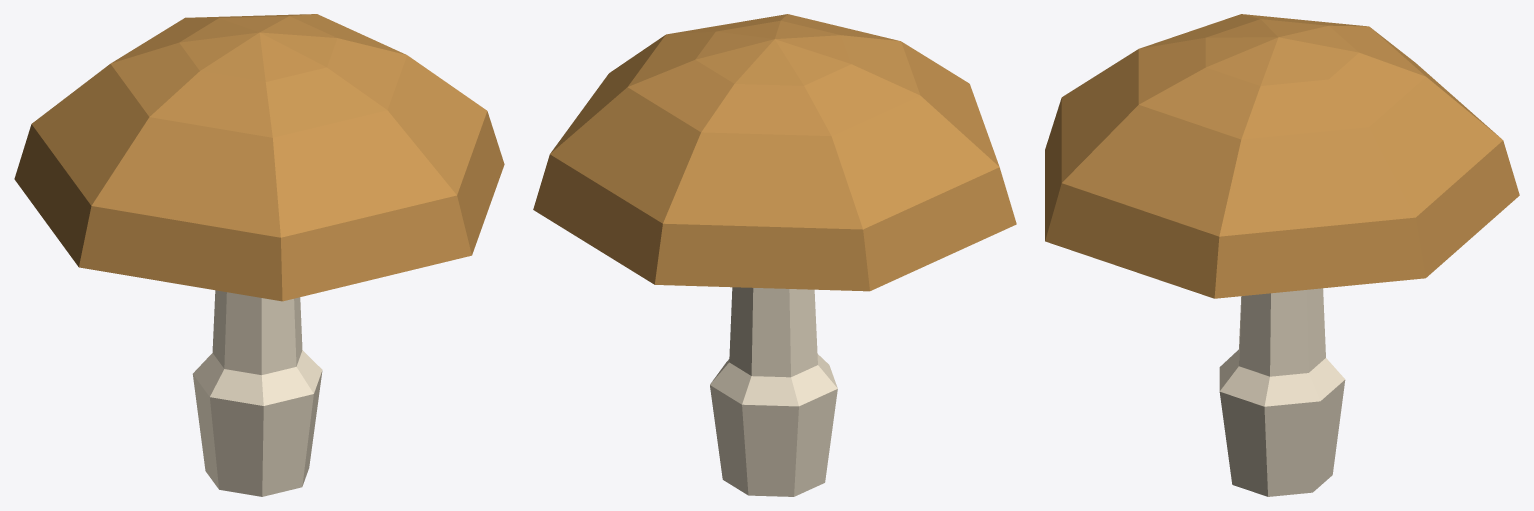
The model's file is mushroom-c.glb.
The picture shows the model from 3 angles, left to right: view 1: azimuth 30°, elevation 25°; view 2: azimuth 150°, elevation 25°; view 3: azimuth 270°, elevation 25°; orthographic projection.
Visible parts, largest first — view 1: Mushroom; view 2: Mushroom; view 3: Mushroom.
Boxes of the visible parts, <box> form: Mushroom: <box>14,14,504,496</box>; Mushroom: <box>533,14,1016,496</box>; Mushroom: <box>1045,14,1519,496</box>.
Size of the model in its own units: 0.6042 by 0.6 by 0.589.
